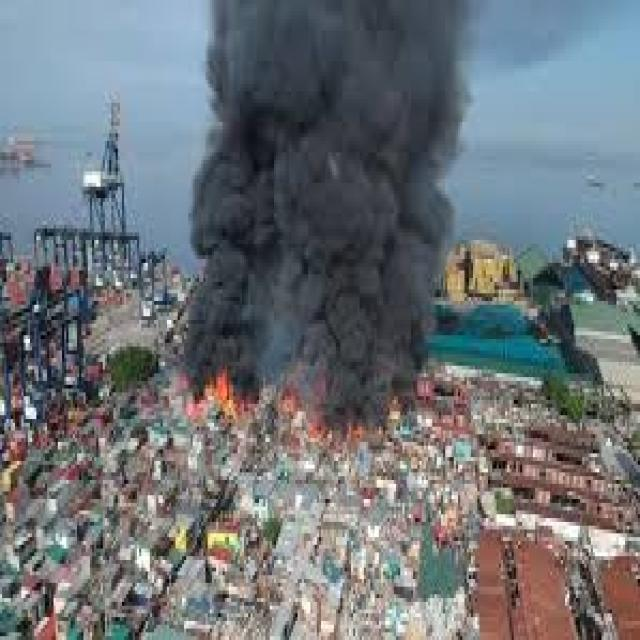Smoke: (208, 0, 457, 438)
